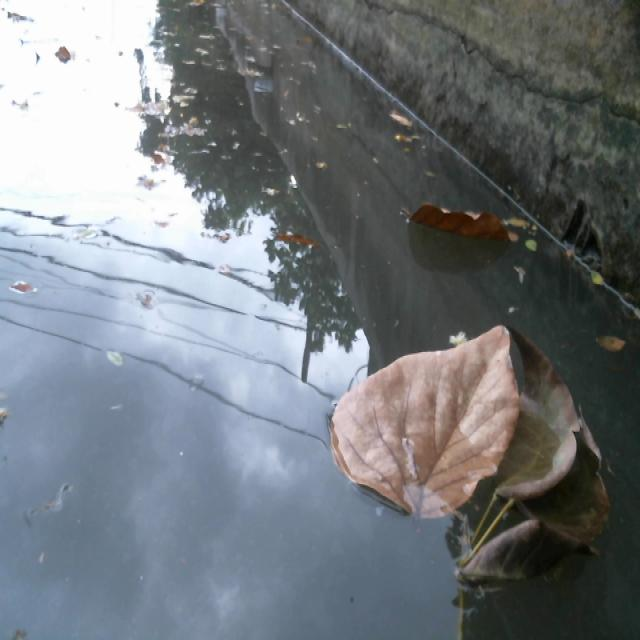Big-leaf: (345, 311, 615, 602), (415, 185, 508, 241)
Small-leaf: (273, 227, 337, 261), (92, 347, 143, 378), (603, 330, 640, 371), (0, 276, 40, 309), (585, 266, 615, 302), (387, 113, 421, 138), (526, 237, 549, 266), (510, 216, 536, 236)
